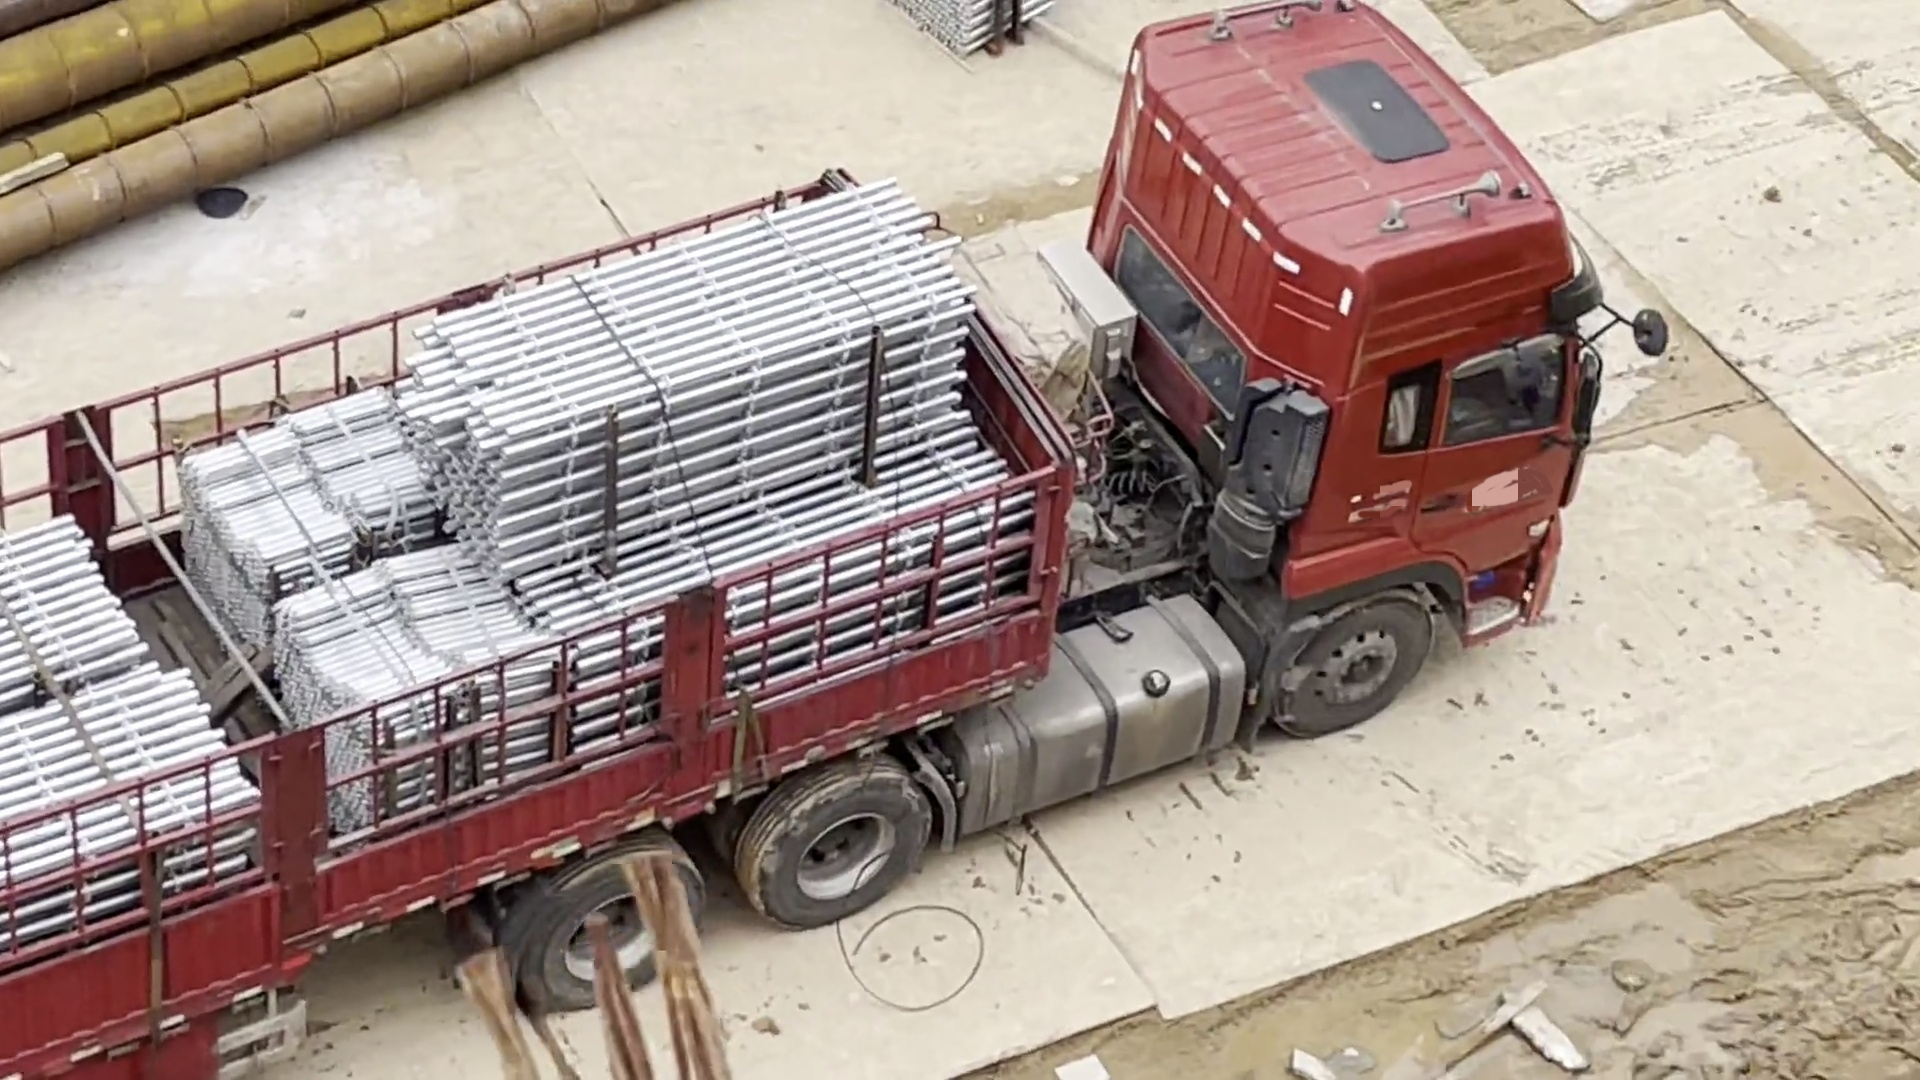scaffold: (400, 185, 1030, 753), (181, 384, 554, 841), (1, 508, 251, 945)
